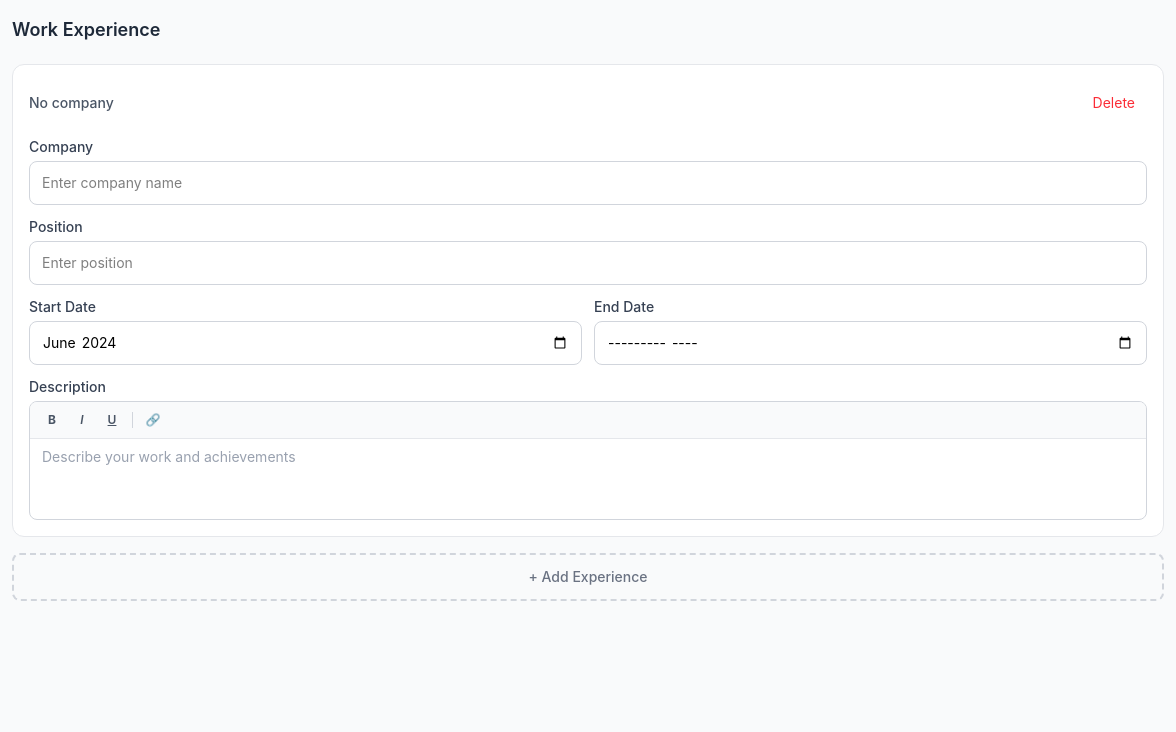
Scenario: ExperienceForm › shows date range error when end date is before start date
Type "2024-01" into the field below "End Date" at (870,343), box [594, 321, 1147, 365]
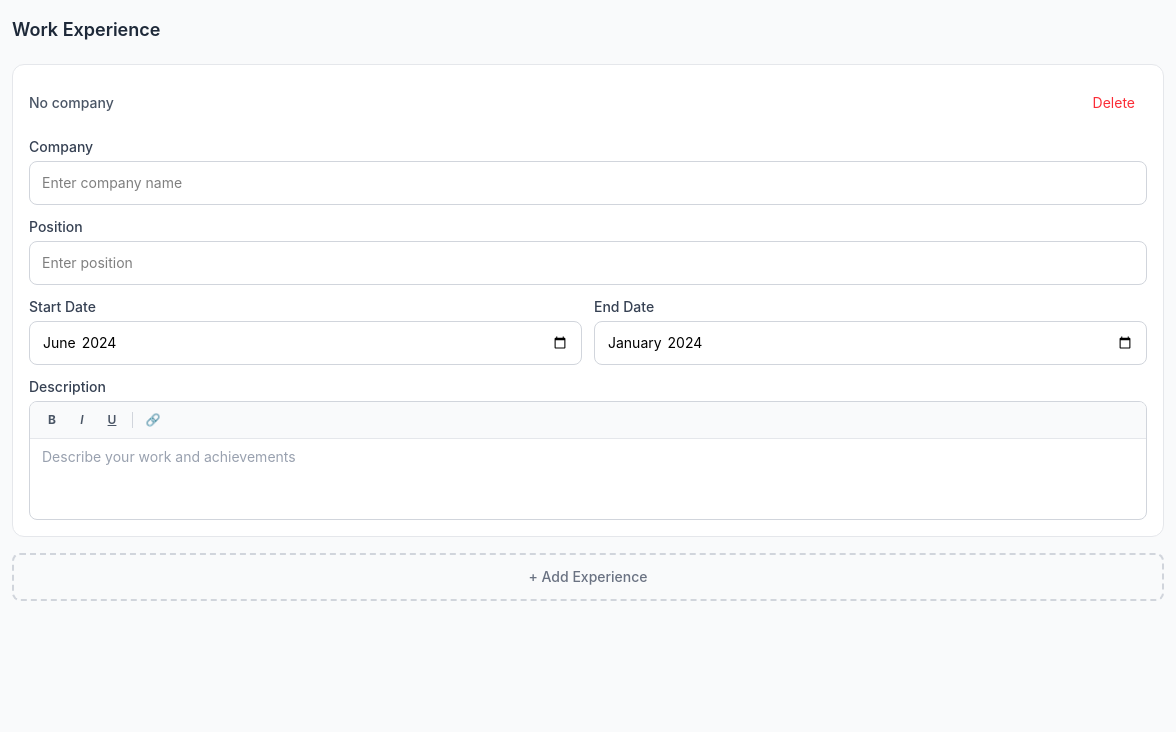
Leave the field below "End Date", box [594, 321, 1147, 365]
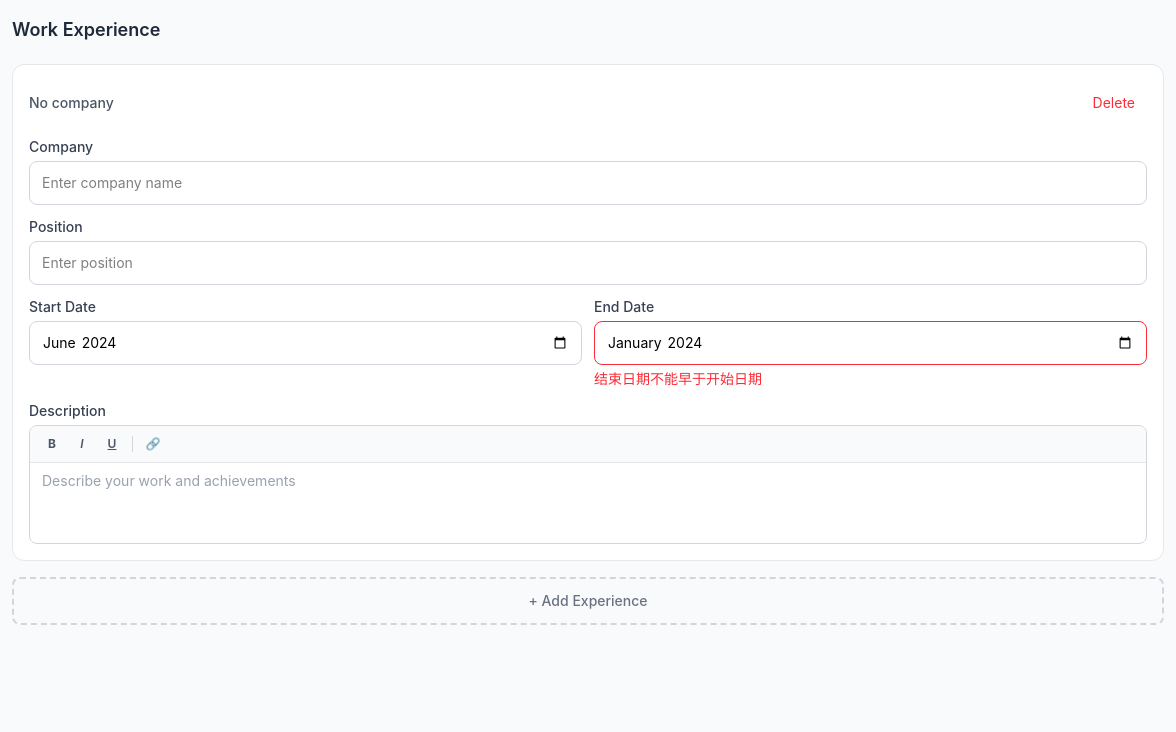
Result: the text "结束日期不能早于开始日期" is shown at [594, 370, 762, 387]
